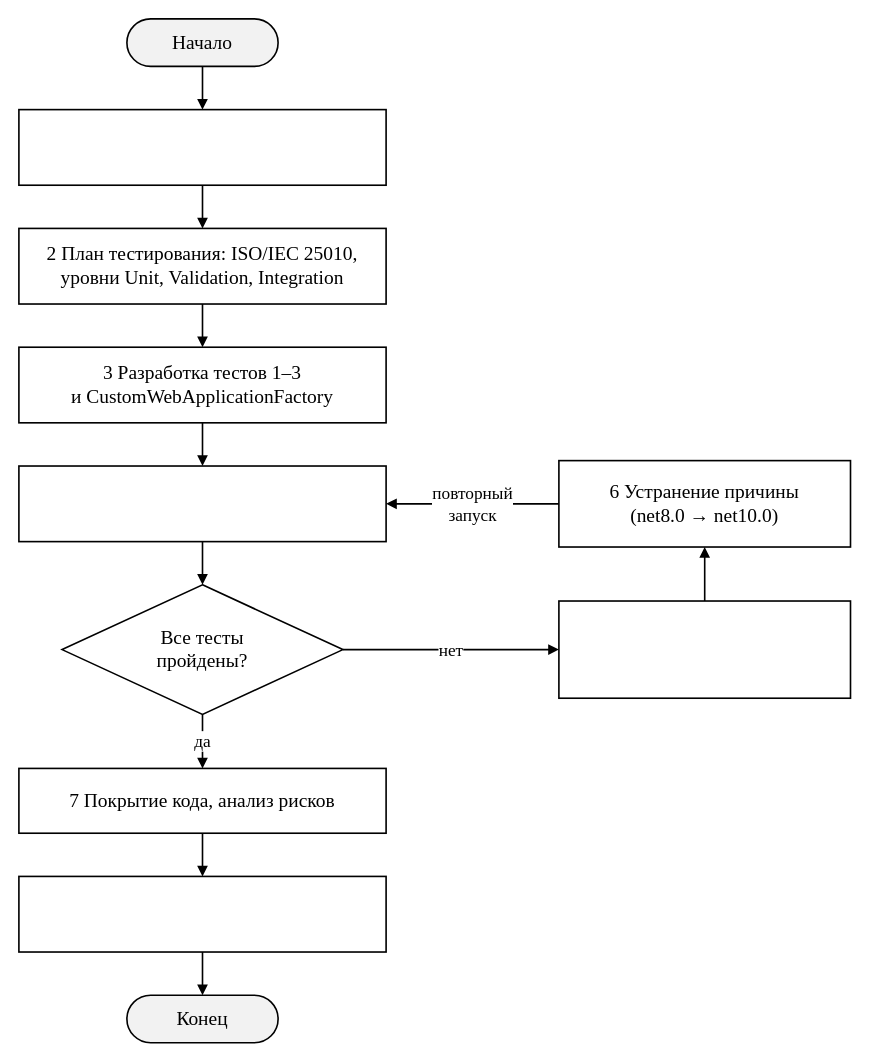
This 870x1063 diagram has some shape labels left out. Here are the shapes that lost their labels. From the top down, the centre of each, then its label:
At [202,147]: "1 Анализ требований: [Required], [Range(1, 9)], эндпоинты POST и GET".
At [202,503]: "4 Запуск тестов (Обозреватель тестов, dotnet test)".
At [704,649]: "5 Анализ дефектов: первичная ошибка и вторичные симптомы".
At [202,913]: "8 Отчёт о тестировании, итоговый вердикт".
